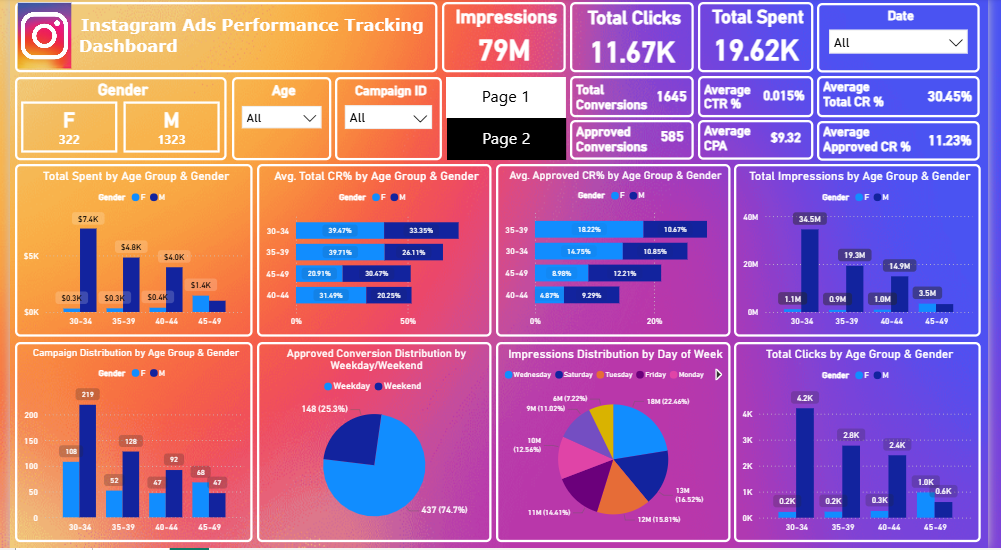

What the dashboard file says about the page in this screenshot:
{"tool":"powerbi","page":{"name":"Page 2","canvas":[1280,720],"ordinal":1},"visuals":[{"type":"card","title":"Impressions","fields":{"Values":["Sum(data.impressions)"]},"box":[565.7,5.5,162.4,92.2],"z":0},{"type":"card","title":"Total Clicks","fields":{"Values":["Sum(data.clicks)"]},"box":[733.6,5.5,162.4,92.2],"z":1000},{"type":"card","title":"Total Spent","fields":{"Values":["Sum(data.spent)"]},"box":[900.1,5.5,151.4,92.2],"z":2000},{"type":"slicer","title":"Date","fields":{"Values":["data.DateLabel"]},"box":[1057,6.9,213.3,90.8],"z":3000},{"type":"textbox","box":[6.9,5.5,553.3,92.2],"z":4000},{"type":"image","box":[5.5,5.5,79.8,92.2],"z":5000},{"type":"advancedSlicerVisual","title":"Gender","fields":{"Values":["data.gender"],"Label":["Sum(data.total_conversion)"]},"box":[6.9,103.2,276.6,108.7],"z":6000},{"type":"slicer","title":"Age","fields":{"Values":["data.age_group"]},"box":[290.6,103.4,129.6,108.7],"z":7000},{"type":"slicer","title":"Campaign ID","fields":{"Values":["data.campaign_id"]},"box":[425.5,103.4,140.1,108.7],"z":8000},{"type":"actionButton","box":[571.2,103.2,156.9,53.7],"z":9000},{"type":"actionButton","box":[572.6,156.9,155.5,55.1],"z":10000},{"type":"textbox","box":[733.6,101.8,162.4,53.7],"z":11000},{"type":"textbox","box":[733.6,159.7,162.4,52.3],"z":12000},{"type":"textbox","box":[900.1,101.8,151.4,53.7],"z":13000},{"type":"textbox","box":[900.1,159.7,151.4,52.3],"z":14000},{"type":"textbox","box":[1057,101.8,213.3,53.7],"z":15000},{"type":"textbox","box":[1057,161,213.3,52.3],"z":16000},{"type":"card","fields":{"Values":["Sum(data.total_conversion)"]},"box":[836.8,110.1,59.2,37.2],"z":17000},{"type":"card","fields":{"Values":["Sum(data.approved_conversion)"]},"box":[838.2,158.3,57.8,45.4],"z":18000},{"type":"card","fields":{"Values":["Avg(data.CTR%)"]},"box":[975.8,110.1,75.7,37.2],"z":19000},{"type":"card","fields":{"Values":["Avg(data.CPA)"]},"box":[978.6,163.8,72.9,39.9],"z":20000},{"type":"card","fields":{"Values":["Avg(data.Total CR%)"]},"box":[1180.9,104.6,99.1,48.2],"z":21000},{"type":"card","fields":{"Values":["Avg(data.Approved CR%)"]},"box":[1185,165.2,90.8,42.7],"z":22000},{"type":"clusteredColumnChart","title":"Total Spent by Age Group & Gender","fields":{"Series":["data.gender"],"Category":["data.age_group"],"Y":["Sum(data.spent)"]},"box":[6.9,217.5,311.1,225.7],"z":23000},{"type":"clusteredColumnChart","title":"Total Impressions by Age Group & Gender","fields":{"Y":["Sum(data.impressions)"],"Category":["data.age_group"],"Series":["data.gender"]},"box":[948.3,217.5,323.4,225.7],"z":24000},{"type":"barChart","title":"Avg. Total CR% by Age Group & Gender","fields":{"Category":["data.age_group"],"Y":["Avg(data.Total CR%)"],"Series":["data.gender"]},"box":[323.4,217.5,306.9,225.7],"z":25000},{"type":"barChart","title":"Avg. Approved CR% by Age Group & Gender","fields":{"Category":["data.age_group"],"Y":["Avg(data.Approved CR%)"],"Series":["data.gender"]},"box":[635.9,217.5,306.9,225.7],"z":26000},{"type":"clusteredColumnChart","title":"Campaign Distribution by Age Group & Gender","fields":{"Category":["data.age_group"],"Series":["data.gender"],"Y":["CountNonNull(data.campaign_id)"]},"box":[6.9,450.1,311.1,261.5],"z":27000},{"type":"pieChart","title":"Approved Conversion Distribution by Weekday/Weekend","fields":{"Category":["data.WeekdayWeekend"],"Y":["Sum(data.approved_conversion)"]},"box":[323,450,307,262],"z":28000},{"type":"pieChart","title":"Impressions Distribution by Day of Week","fields":{"Y":["Sum(data.impressions)"],"Category":["data.DayOfWeek"]},"box":[636,450,307,262],"z":29000},{"type":"clusteredColumnChart","title":"Total Clicks by Age Group & Gender","fields":{"Y":["Sum(data.clicks)"],"Series":["data.gender"],"Category":["data.age_group"]},"box":[948,450,323,262],"z":30000}]}

Visuals, with their boxes in screenshot pixels (x1, y1, x2, y2), scaled from the page's 1280x720 canvas onto the 1001x550 screenshot:
"Impressions" card: rect(442, 4, 569, 75)
"Total Clicks" card: rect(574, 4, 701, 75)
"Total Spent" card: rect(704, 4, 822, 75)
"Date" slicer: rect(827, 5, 993, 75)
textbox: rect(5, 4, 438, 75)
image: rect(4, 4, 67, 75)
"Gender" advancedSlicerVisual: rect(5, 79, 222, 162)
"Age" slicer: rect(227, 79, 329, 162)
"Campaign ID" slicer: rect(333, 79, 442, 162)
actionButton: rect(447, 79, 569, 120)
actionButton: rect(448, 120, 569, 162)
textbox: rect(574, 78, 701, 119)
textbox: rect(574, 122, 701, 162)
textbox: rect(704, 78, 822, 119)
textbox: rect(704, 122, 822, 162)
textbox: rect(827, 78, 993, 119)
textbox: rect(827, 123, 993, 163)
card - Sum(data.total_conversion): rect(654, 84, 701, 113)
card - Sum(data.approved_conversion): rect(655, 121, 701, 156)
card - Avg(data.CTR%): rect(763, 84, 822, 113)
card - Avg(data.CPA): rect(765, 125, 822, 156)
card - Avg(data.Total CR%): rect(924, 80, 1000, 117)
card - Avg(data.Approved CR%): rect(927, 126, 998, 159)
"Total Spent by Age Group & Gender" clusteredColumnChart: rect(5, 166, 249, 339)
"Total Impressions by Age Group & Gender" clusteredColumnChart: rect(742, 166, 995, 339)
"Avg. Total CR% by Age Group & Gender" barChart: rect(253, 166, 493, 339)
"Avg. Approved CR% by Age Group & Gender" barChart: rect(497, 166, 737, 339)
"Campaign Distribution by Age Group & Gender" clusteredColumnChart: rect(5, 344, 249, 544)
"Approved Conversion Distribution by Weekday/Weekend" pieChart: rect(253, 344, 493, 544)
"Impressions Distribution by Day of Week" pieChart: rect(497, 344, 737, 544)
"Total Clicks by Age Group & Gender" clusteredColumnChart: rect(741, 344, 994, 544)
